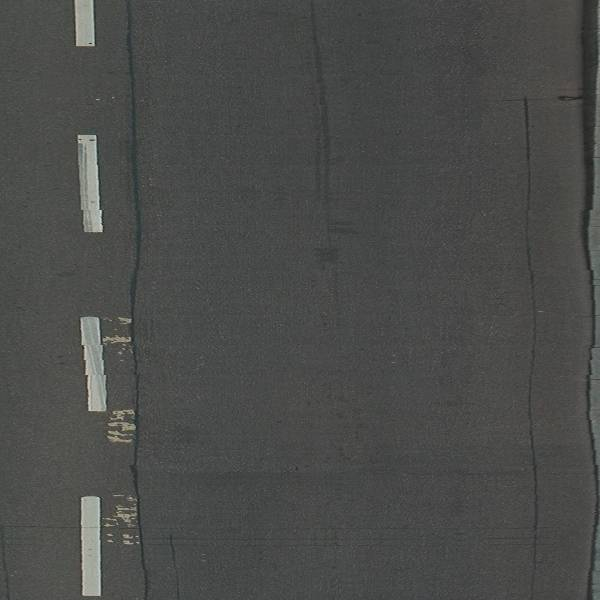road_damage: (155, 520, 555, 559), (124, 16, 146, 362), (312, 236, 349, 264)
